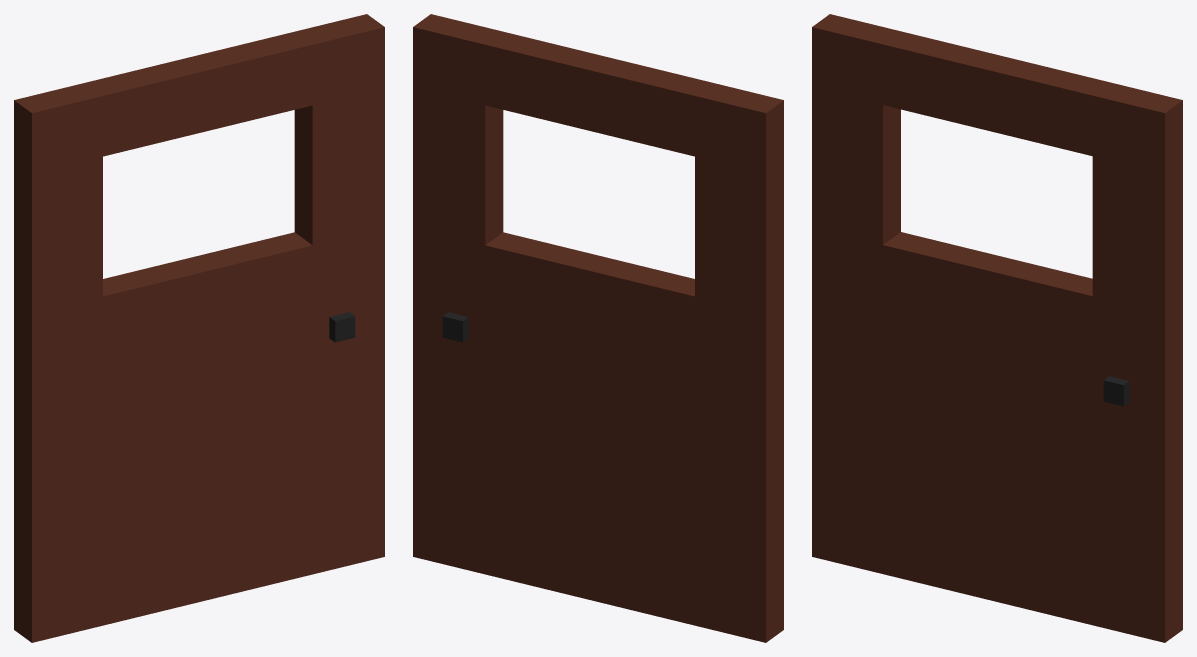
The model's file is Door1.fbx.
3 views of the same model, side by side, from view 1: azimuth 30°, elevation 25°; view 2: azimuth 150°, elevation 25°; view 3: azimuth 330°, elevation 25° (orthographic).
Visible parts, largest first — view 1: Cube; view 2: Cube; view 3: Cube.
Part boxes in pixels (x1,y1,x2,y2): Cube: (14,14,384,642); Cube: (413,14,783,642); Cube: (812,14,1182,642).
Size of the model in its own units: 337 by 483 by 48.88.
